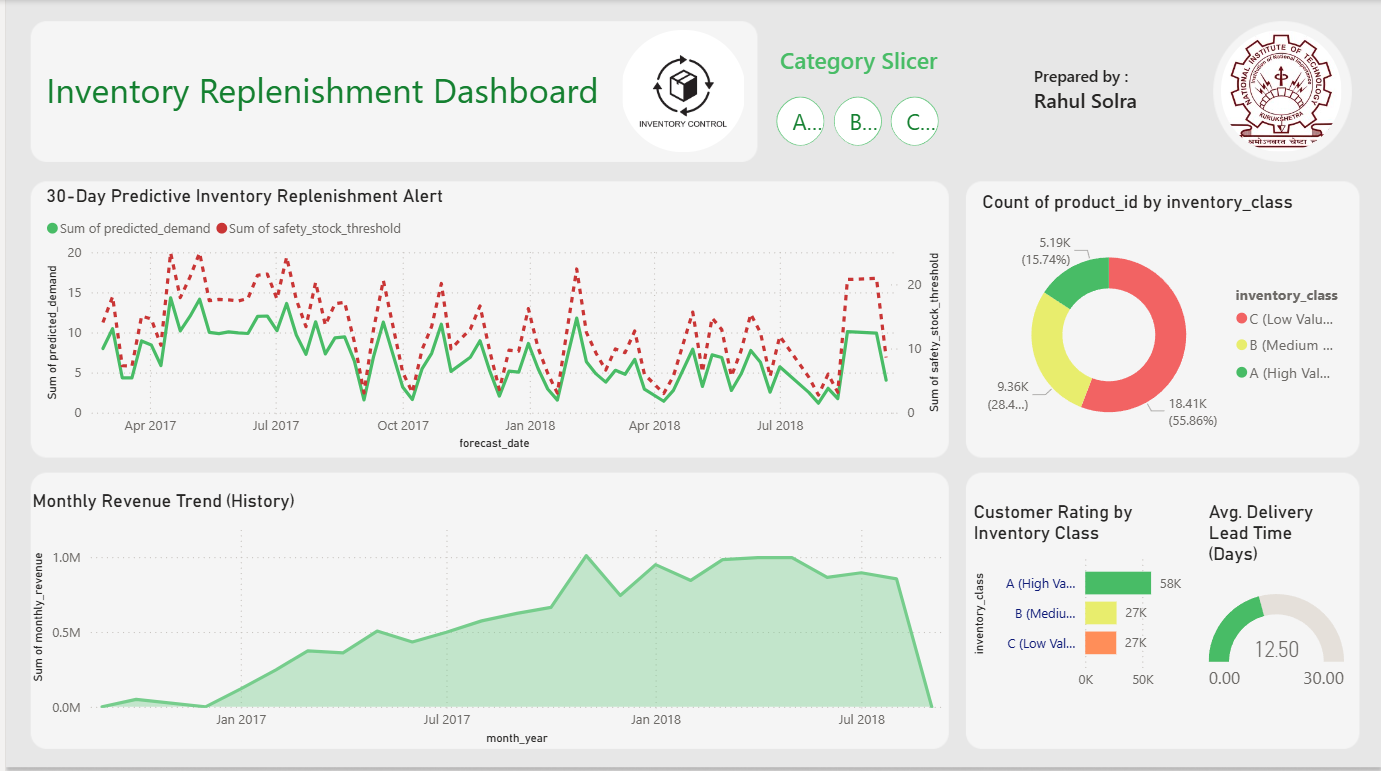

What the dashboard file says about the page in this screenshot:
{"tool":"powerbi","page":{"name":"Page 1","canvas":[1280,720],"ordinal":0},"visuals":[{"type":"donutChart","fields":{"Category":["abc_analysis_table.inventory_class"],"Y":["CountNonNull(abc_analysis_table.product_id)"]},"box":[903.9,177.5,346.2,246.7],"z":0},{"type":"lineChart","title":"30-Day Predictive Inventory Replenishment Alert","fields":{"Category":["stockout_risk_analysis.forecast_date"],"Y":["Sum(stockout_risk_analysis.predicted_demand)"],"Y2":["Sum(stockout_risk_analysis.safety_stock_threshold)"]},"box":[32.7,172.5,842.2,251.8],"z":1000},{"type":"areaChart","title":"Monthly Revenue Trend (History)","fields":{"Category":["monthly_sales_performance.month_year"],"Y":["Sum(monthly_sales_performance.monthly_revenue)"]},"box":[20.1,455.7,868.6,241.7],"z":2000},{"type":"clusteredBarChart","title":"Customer Rating by Inventory Class","fields":{"Category":["customer_experience.inventory_class"],"Y":["Sum(customer_experience.feedback_count)"]},"box":[895,465.8,225.3,183.8],"z":3000},{"type":"gauge","title":"Avg. Delivery Lead Time (Days)","fields":{"Y":["Avg(delivery_performance.delivery_days)"]},"box":[1114.1,465.8,136,205.2],"z":3001},{"type":"textbox","box":[32.7,56.6,538.8,84.3],"z":3002},{"type":"image","box":[1130.5,27.7,112,113.3],"z":3003},{"type":"image","box":[571.5,27.7,115.8,113.3],"z":3004},{"type":"advancedSlicerVisual","fields":{"Values":["abc_analysis_table.inventory_class"]},"box":[711.3,84.3,163.7,56.6],"z":3005},{"type":"textbox","box":[715,36.5,173.7,40.3],"z":3006},{"type":"textbox","box":[951.7,55.4,125.9,56.6],"z":3007}]}

Visuals, with their boxes in screenshot pixels (x1, y1, x2, y2), scaled from the page's 1280x720 canvas onto the 1381x771 screenshot:
donutChart - abc_analysis_table.inventory_class x CountNonNull(abc_analysis_table.product_id): locate(975, 190, 1349, 454)
"30-Day Predictive Inventory Replenishment Alert" lineChart: locate(35, 185, 944, 454)
"Monthly Revenue Trend (History)" areaChart: locate(22, 488, 959, 747)
"Customer Rating by Inventory Class" clusteredBarChart: locate(966, 499, 1209, 696)
"Avg. Delivery Lead Time (Days)" gauge: locate(1202, 499, 1349, 719)
textbox: locate(35, 61, 617, 151)
image: locate(1220, 30, 1341, 151)
image: locate(617, 30, 742, 151)
advancedSlicerVisual - abc_analysis_table.inventory_class: locate(767, 90, 944, 151)
textbox: locate(771, 39, 959, 82)
textbox: locate(1027, 59, 1163, 120)
